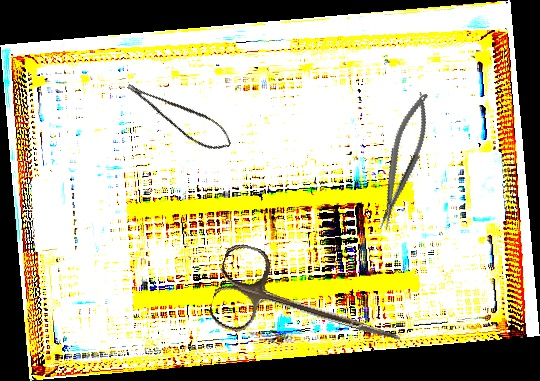Iris Scissors: (205, 240, 414, 376)
Micro Scissor: (124, 65, 237, 162)
Needle Holder: (365, 89, 440, 232)
